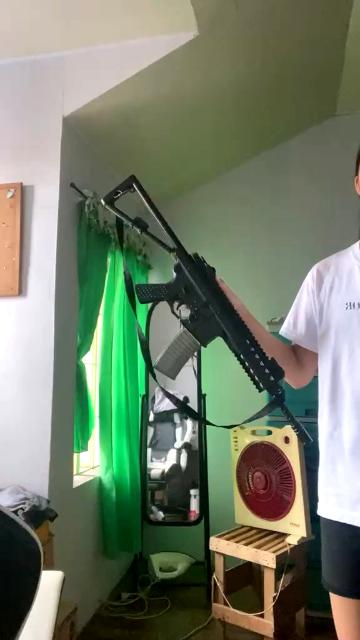rifle: (86, 161, 318, 449)
